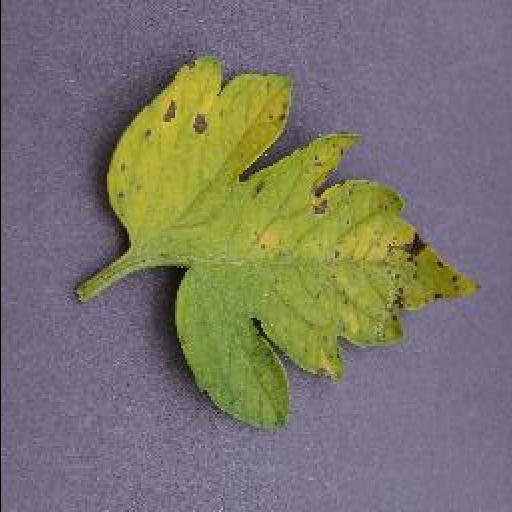disease_tomato: (102, 55, 480, 435)
